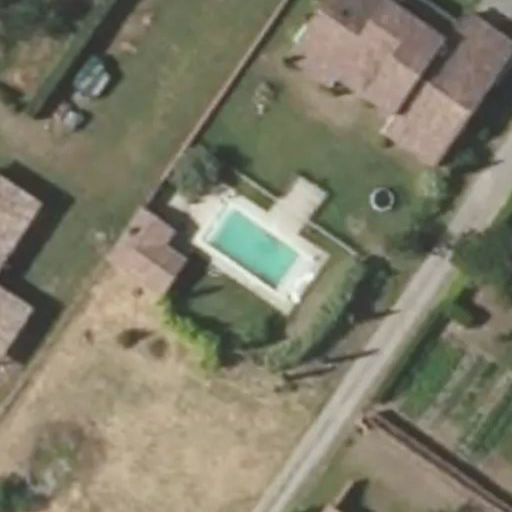pool: (196, 232, 315, 251)
